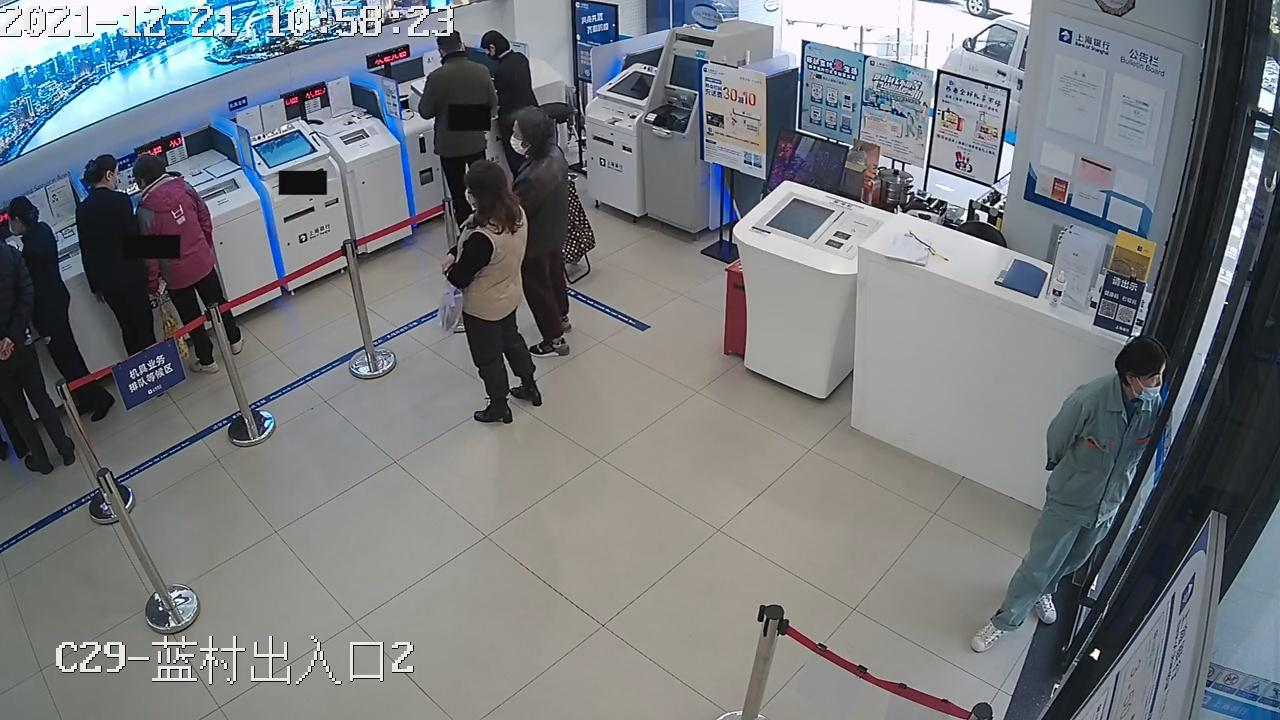person: (969, 336, 1168, 663), (441, 161, 542, 423), (129, 153, 244, 372), (5, 198, 114, 426), (0, 212, 77, 474), (505, 109, 581, 359), (75, 154, 161, 359), (417, 30, 494, 231), (480, 30, 539, 142), (482, 29, 539, 139)
